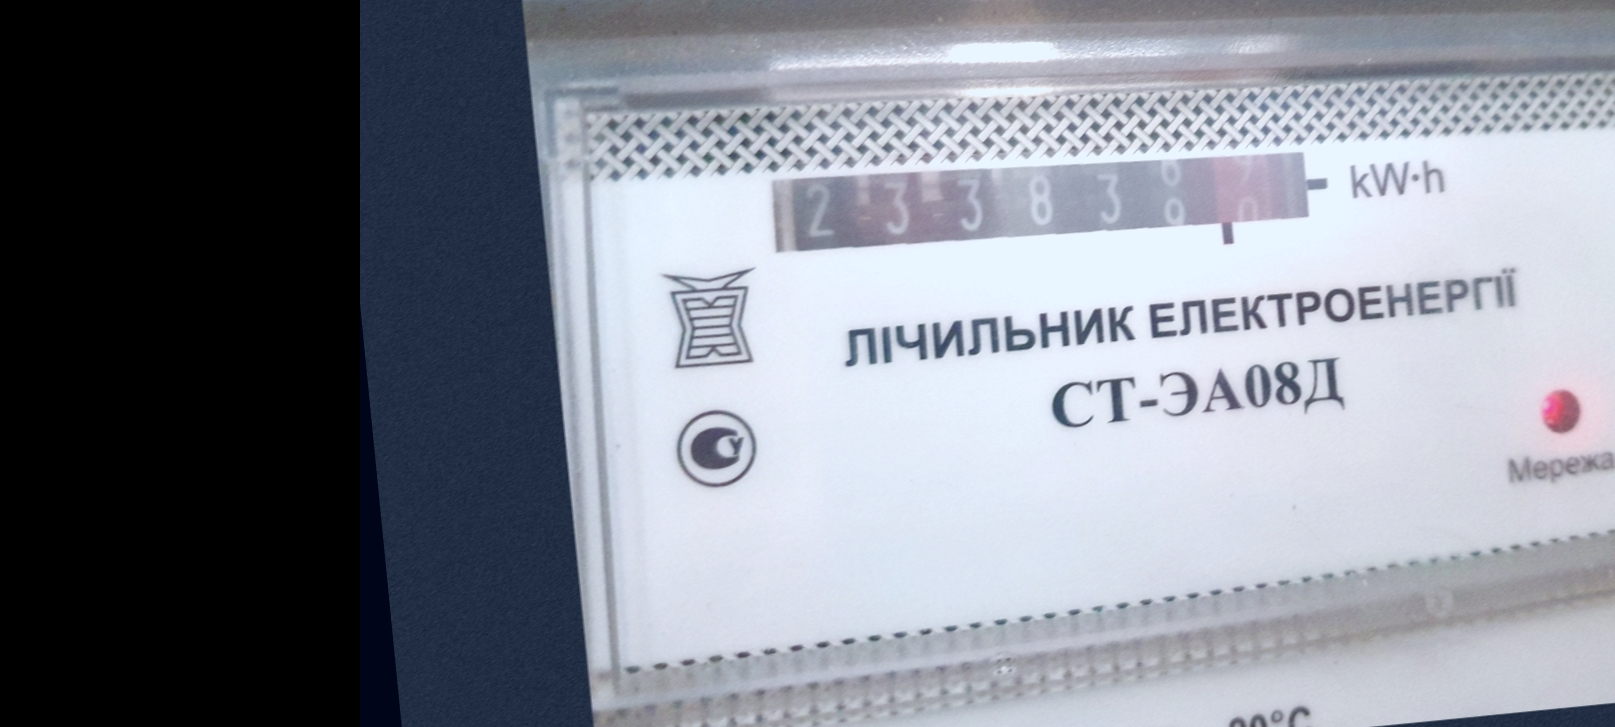0: (1234, 191, 1263, 228)
2: (799, 177, 843, 241)
3: (949, 170, 991, 236), (1094, 165, 1128, 226), (881, 176, 914, 237)
8: (1022, 167, 1061, 229), (1158, 153, 1187, 187)
9: (1228, 148, 1262, 189), (1160, 191, 1192, 230)
screen: (740, 102, 1345, 316)
